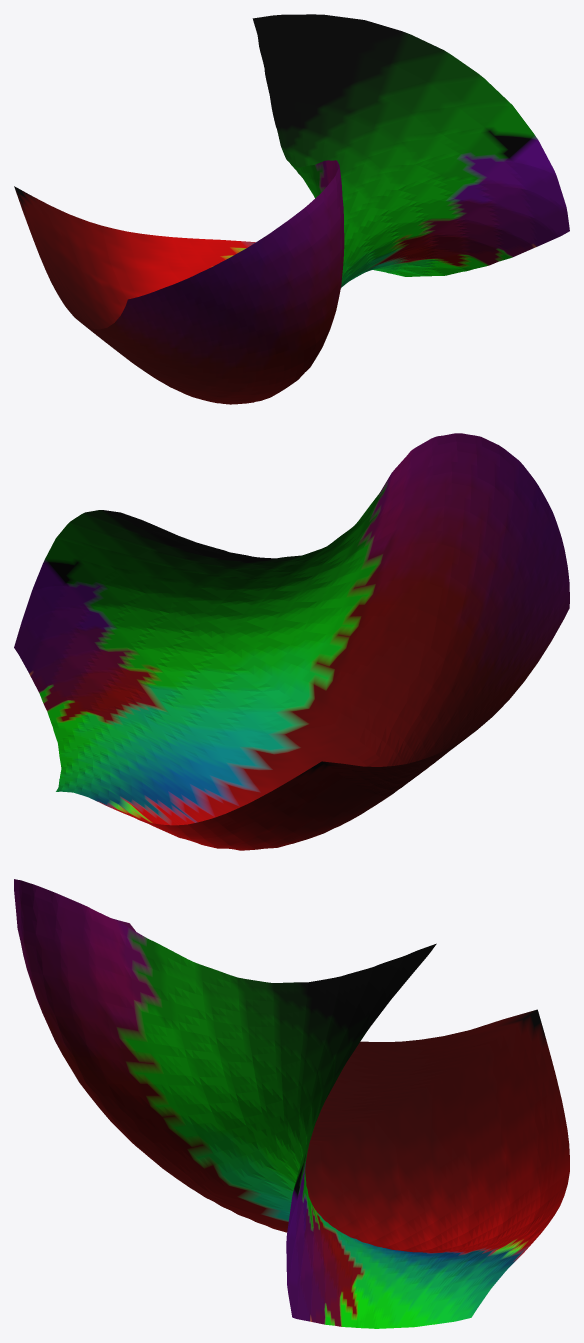
Rendered from cutted_fig10_100x100_colored.obj.
3 views of the same model, one above another, from view 1: azimuth 30°, elevation 25°; view 2: azimuth 150°, elevation 25°; view 3: azimuth 270°, elevation 25° (orthographic). The views are drawn at different scales.
Bounding box in the file's own units: 32.45 × 19.15 × 27.99.
